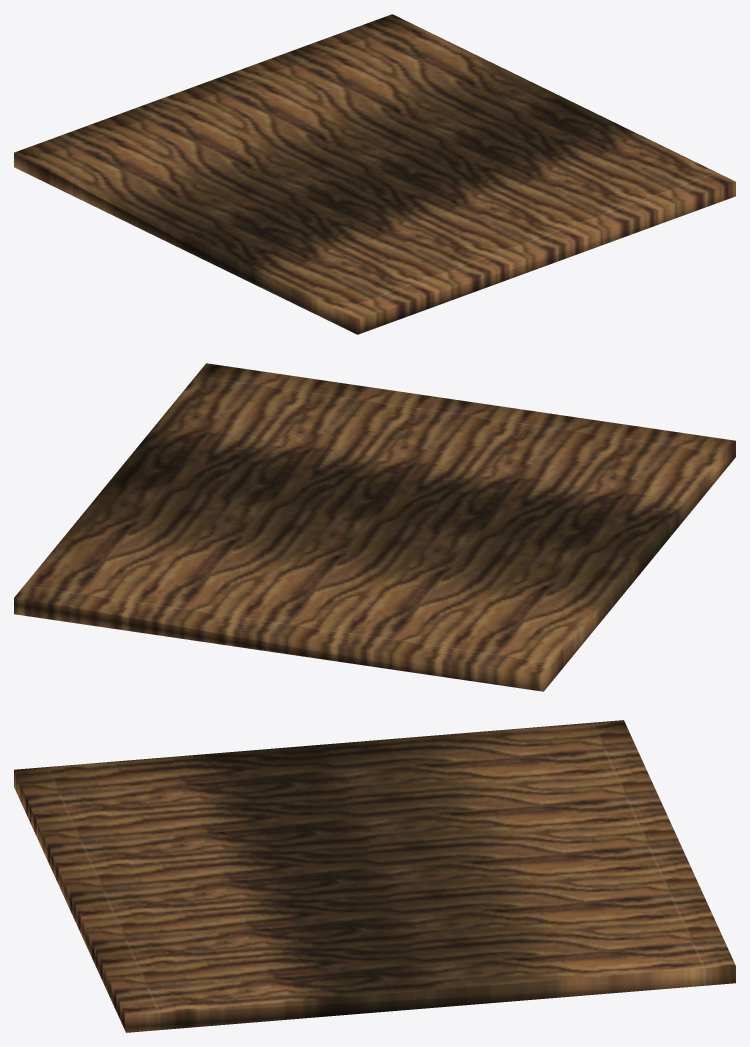
The model's file is SWORDLIGHT20_MAINCAVPLAT01CONV02.fbx.
The picture shows the model from 3 angles, top to bottom: view 1: azimuth 30°, elevation 25°; view 2: azimuth 150°, elevation 25°; view 3: azimuth 270°, elevation 25°; orthographic projection. The views are drawn at different scales.
Parts seen in each view (by area): view 1: SWORDLIGHT20_MAINCAVPLAT01CONV02; view 2: SWORDLIGHT20_MAINCAVPLAT01CONV02; view 3: SWORDLIGHT20_MAINCAVPLAT01CONV02.
Boxes of the visible parts, left/top/right/bottom form: SWORDLIGHT20_MAINCAVPLAT01CONV02: left=14, top=14, right=735, bottom=334; SWORDLIGHT20_MAINCAVPLAT01CONV02: left=14, top=363, right=735, bottom=691; SWORDLIGHT20_MAINCAVPLAT01CONV02: left=14, top=720, right=735, bottom=1032.
Size of the model in its own units: 91793 by 2500 by 94770.
1 material, 1 textured.
